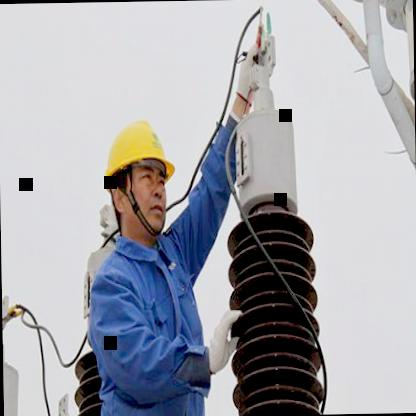helmet: (95, 105, 179, 248)
